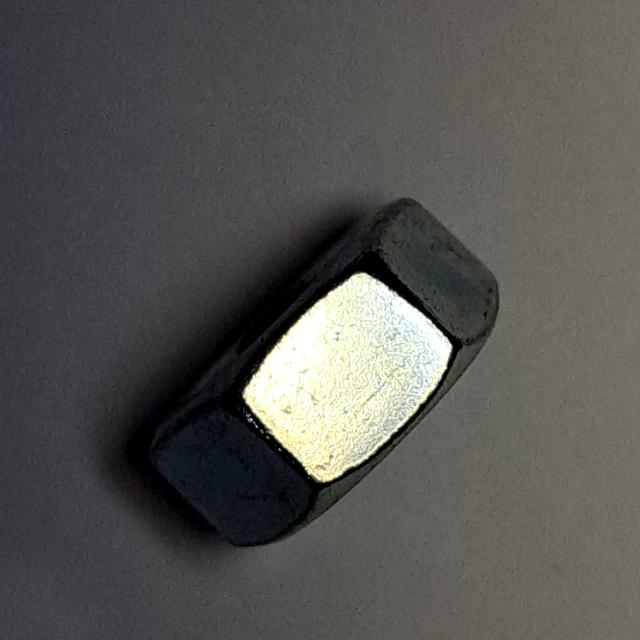Side_Excellent: (128, 181, 510, 562)
